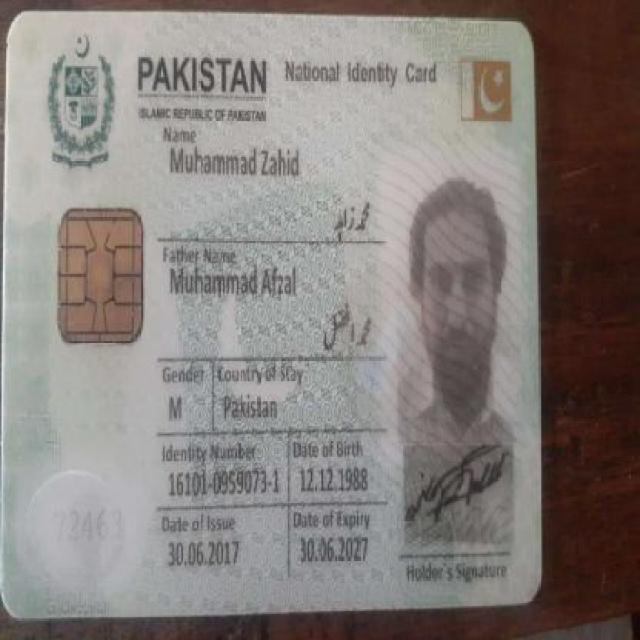Front: (3, 9, 551, 616)
